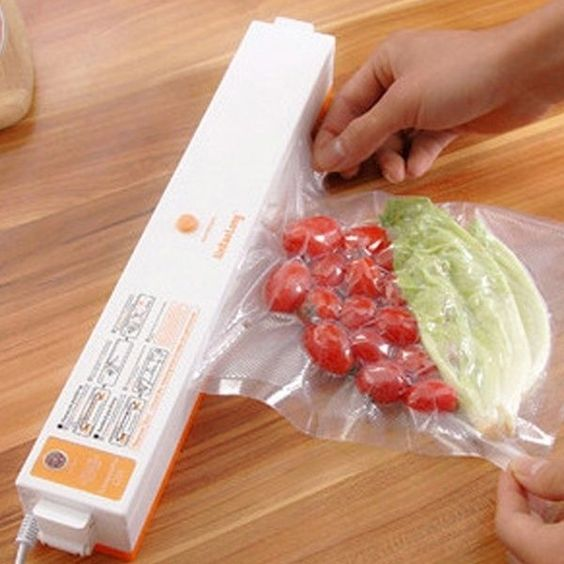papel: (197, 143, 564, 470)
